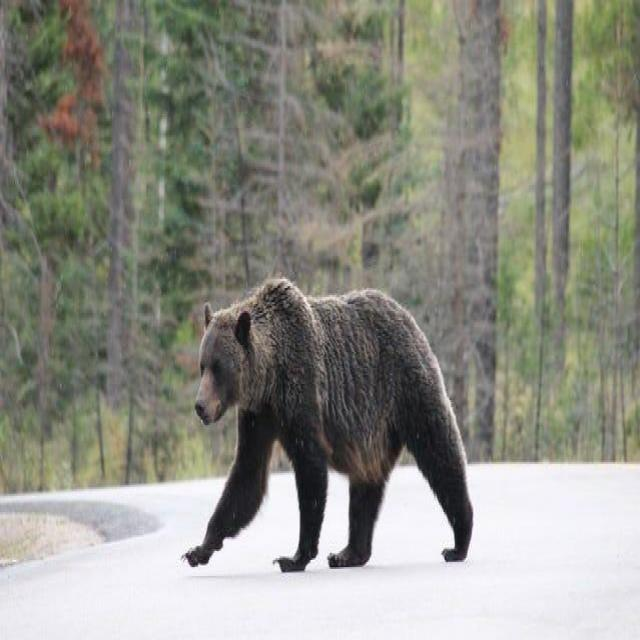Bear: (182, 277, 476, 574)
